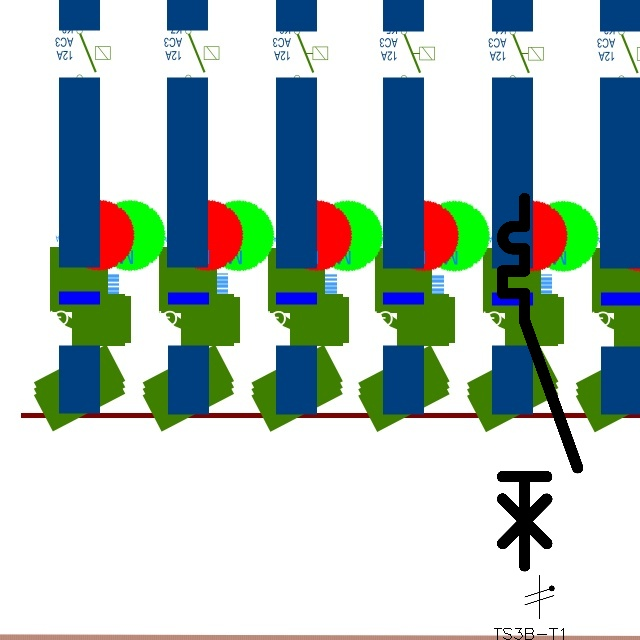interruptor_termomagnetico: (493, 189, 587, 575)
